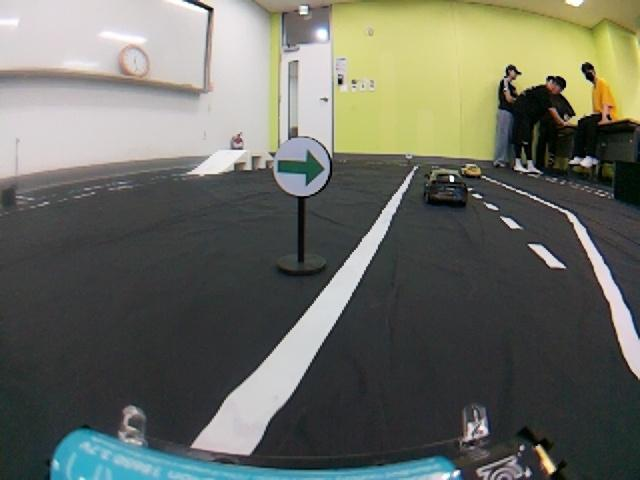right: (14, 201, 637, 480)
sign_right: (272, 135, 332, 198)
